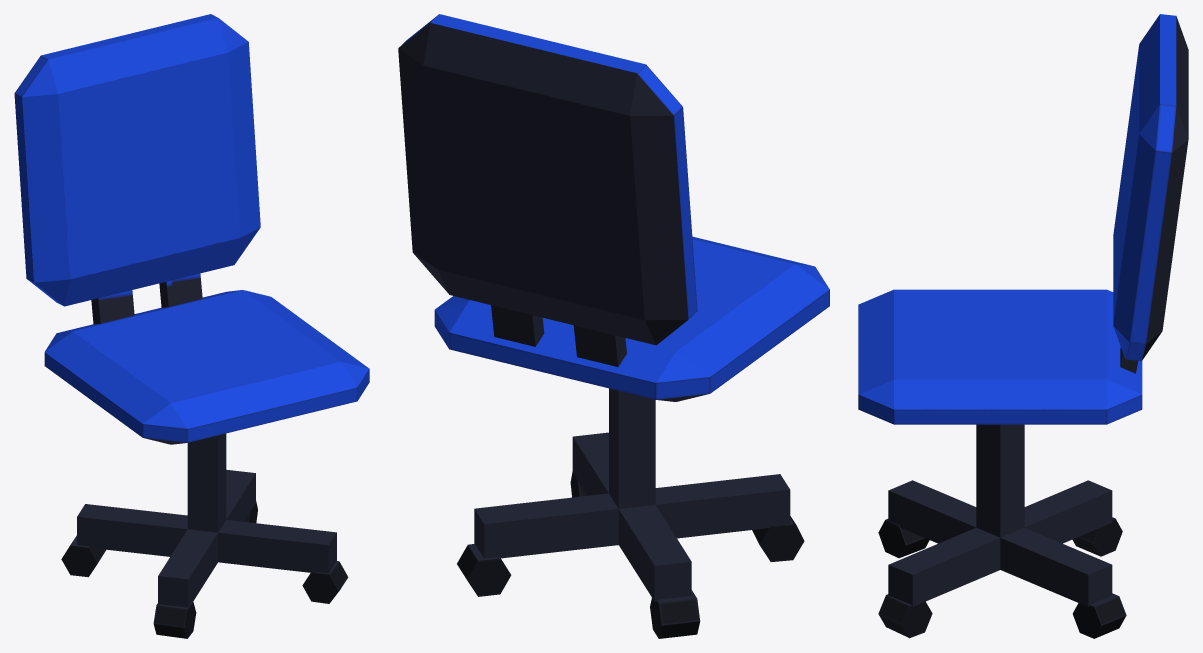
Rendered from Chair.fbx.
3 views of the same model, side by side, from view 1: azimuth 30°, elevation 25°; view 2: azimuth 150°, elevation 25°; view 3: azimuth 270°, elevation 25° (orthographic). The views are drawn at different scales.
Parts seen in each view (by area): view 1: Chair; view 2: Chair; view 3: Chair.
Part boxes in pixels (left/top/right/bottom): Chair: left=14, top=14, right=369, bottom=638; Chair: left=398, top=14, right=829, bottom=638; Chair: left=858, top=14, right=1188, bottom=638.
Bounding box in the file's own units: 100 × 206 × 116.
Materials: 1 (1 with a texture image).
